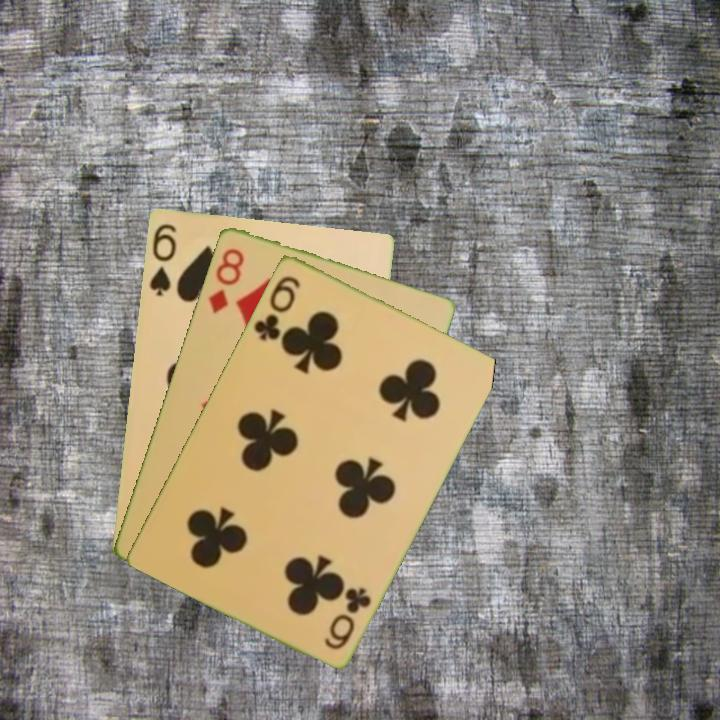6c: (250, 271, 303, 343), (320, 583, 374, 652)
6s: (145, 220, 179, 299)
8d: (204, 244, 247, 317)
